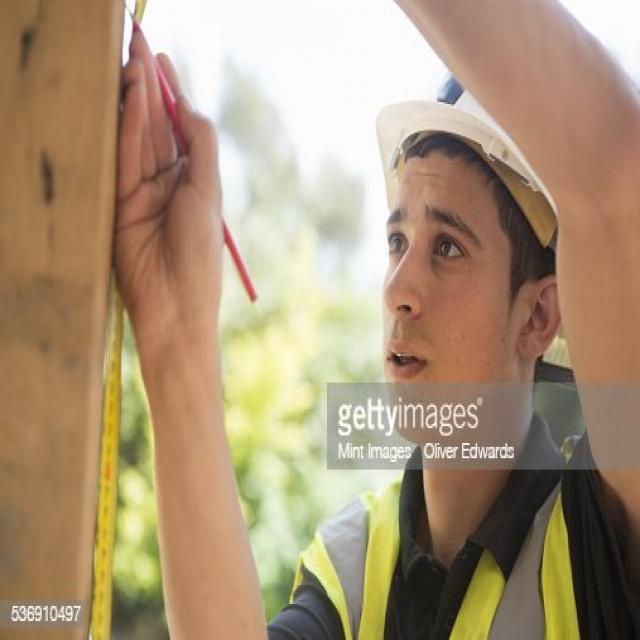reflective_jacket: (304, 467, 588, 639)
safety_helmet: (370, 5, 639, 259)
